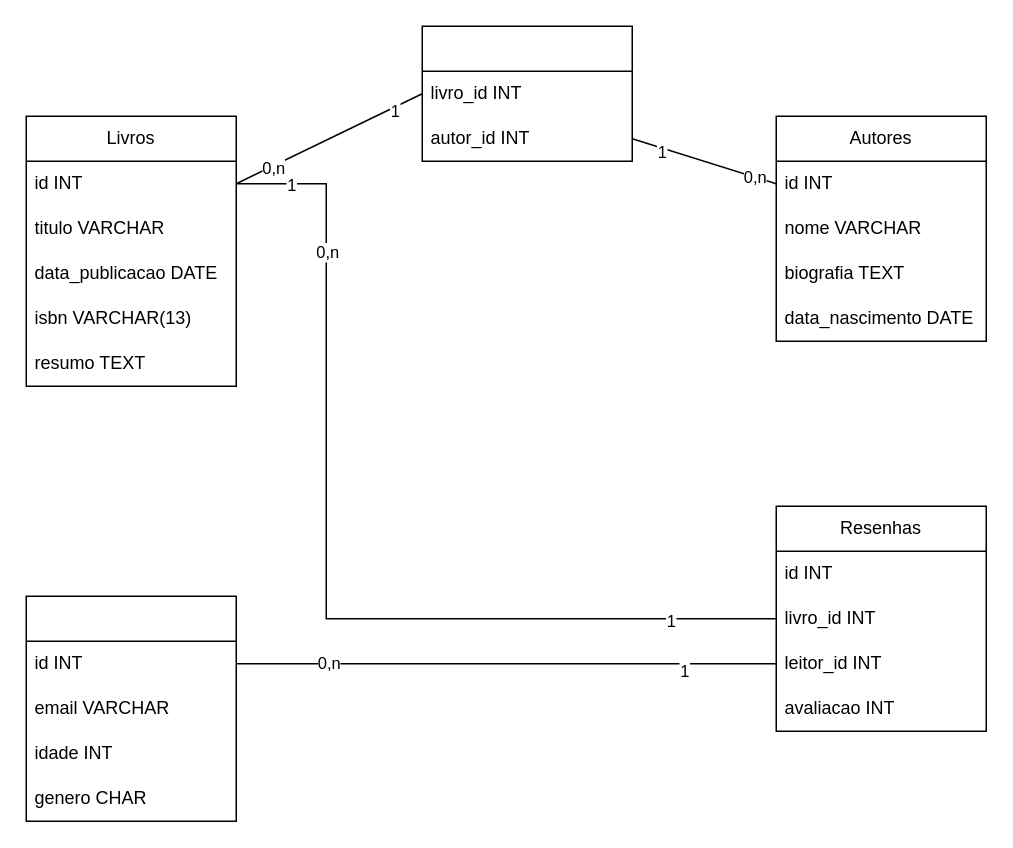
Some shapes in this 1013 by 848 pixel diagram are drawn without their labels. The box of each missing label's shape, as (x1, y1, x2, y2) in pixels:
Leitores: (25, 595, 236, 821)
livros_autores: (421, 25, 632, 161)
